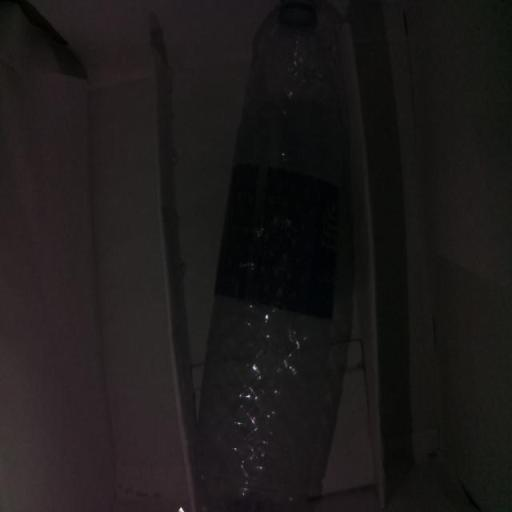plastic: (178, 1, 370, 512)
